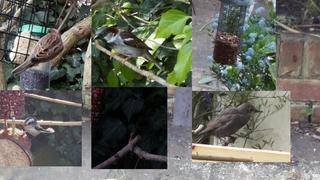long tailed tit: (20, 117, 55, 141)
sparrow: (93, 27, 165, 72), (11, 27, 65, 78)
starling: (196, 102, 264, 146)
